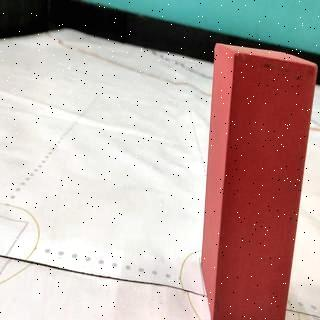redbox: (214, 46, 295, 320)
